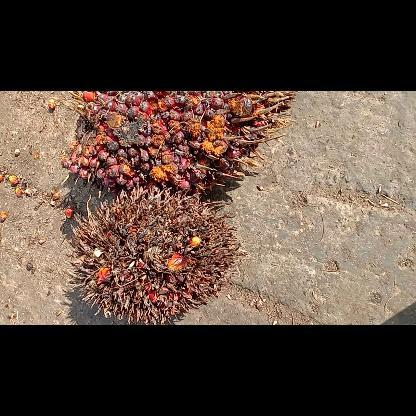TBS masak: (61, 90, 289, 192)
Terlalu masak: (72, 185, 240, 323)
